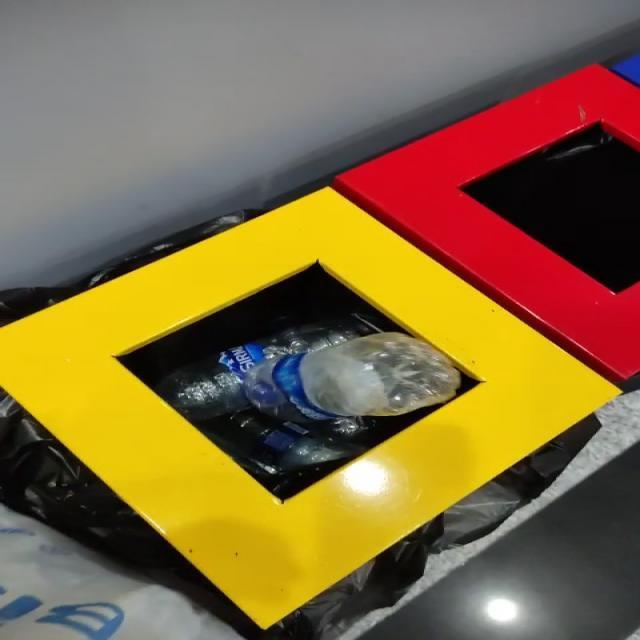Plastic: (243, 332, 461, 423)
